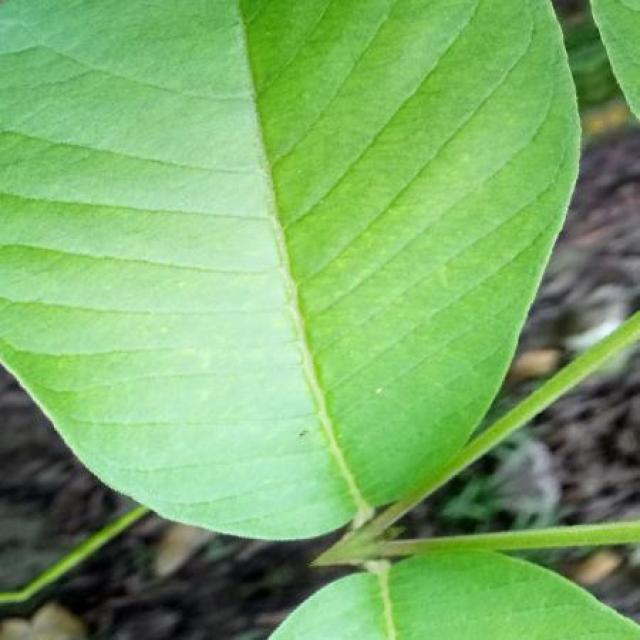Disease Free: (0, 0, 578, 538), (270, 550, 640, 639)
